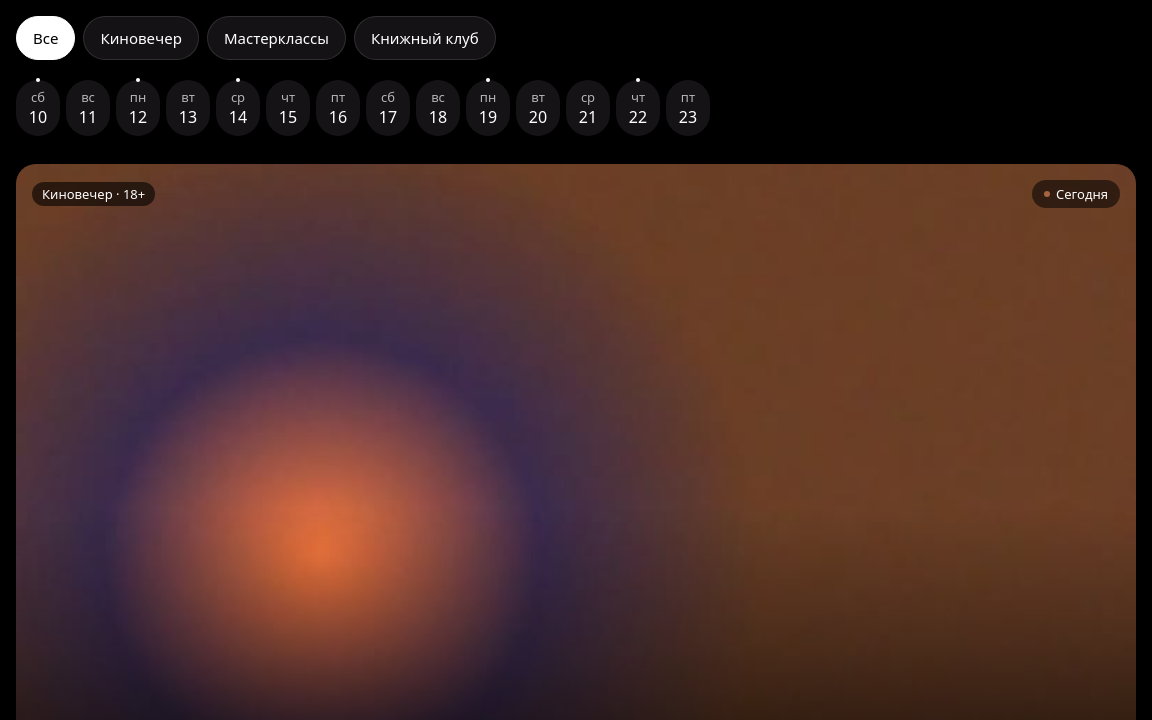
Test: Home › keeps only the chosen direction everywhere
Click the radio button labelled "Книжный клуб" at (425, 38), box [354, 16, 496, 60]
(page scrolled)
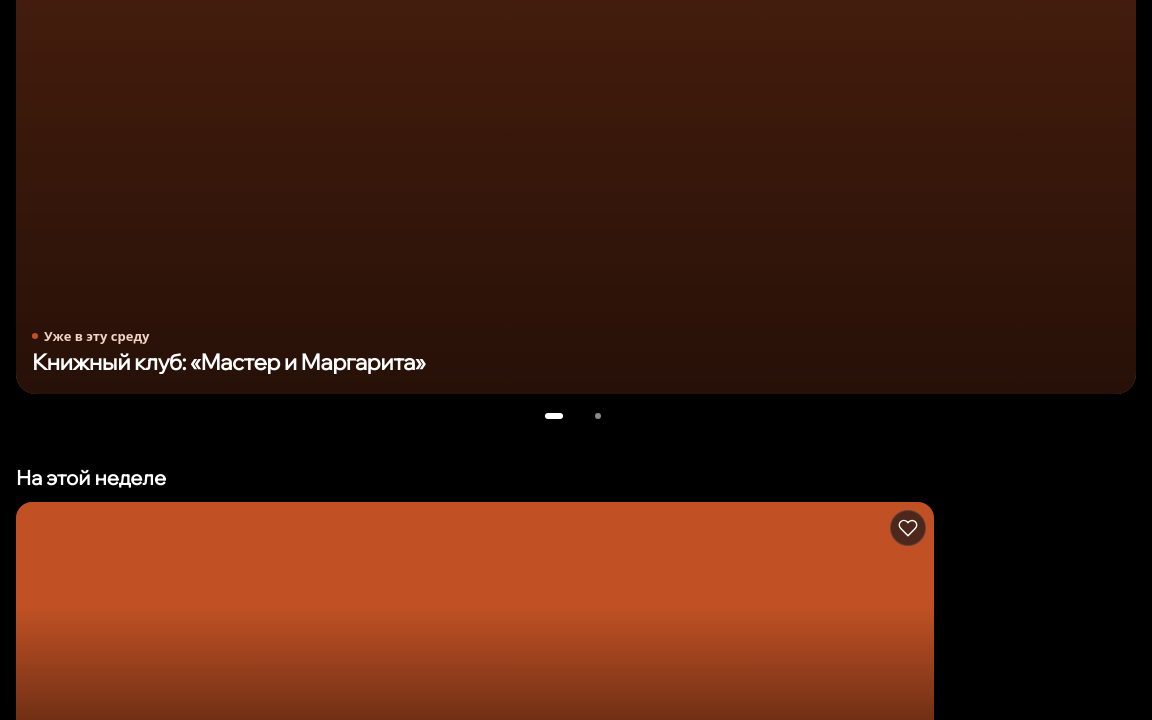
Now the heading "Книжный клуб: «Мастер и Маргарита»" is shown, box [32, 348, 425, 376]
